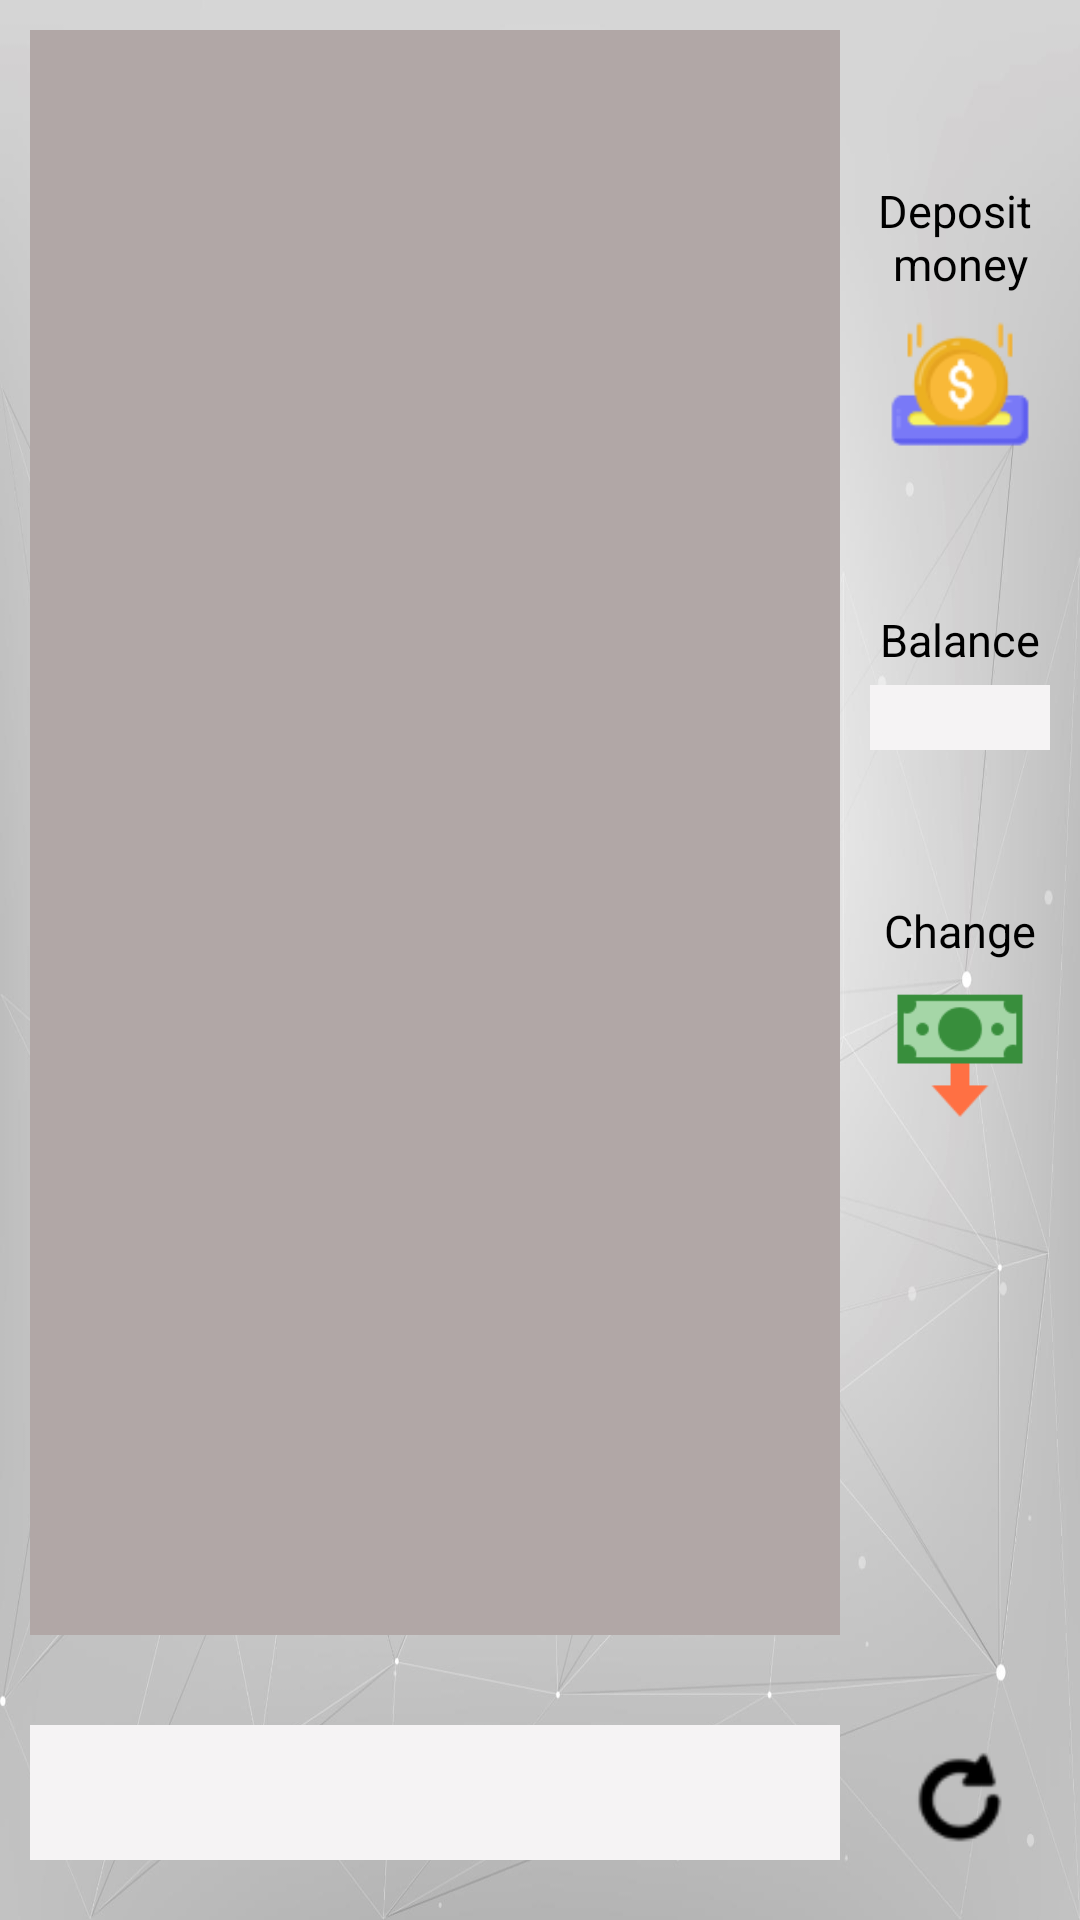

Icons on this 1080 x 1920 Android screen, each with the point to tap as [x,y]:
insert coins: [960,389]
reset: [960,1797]
